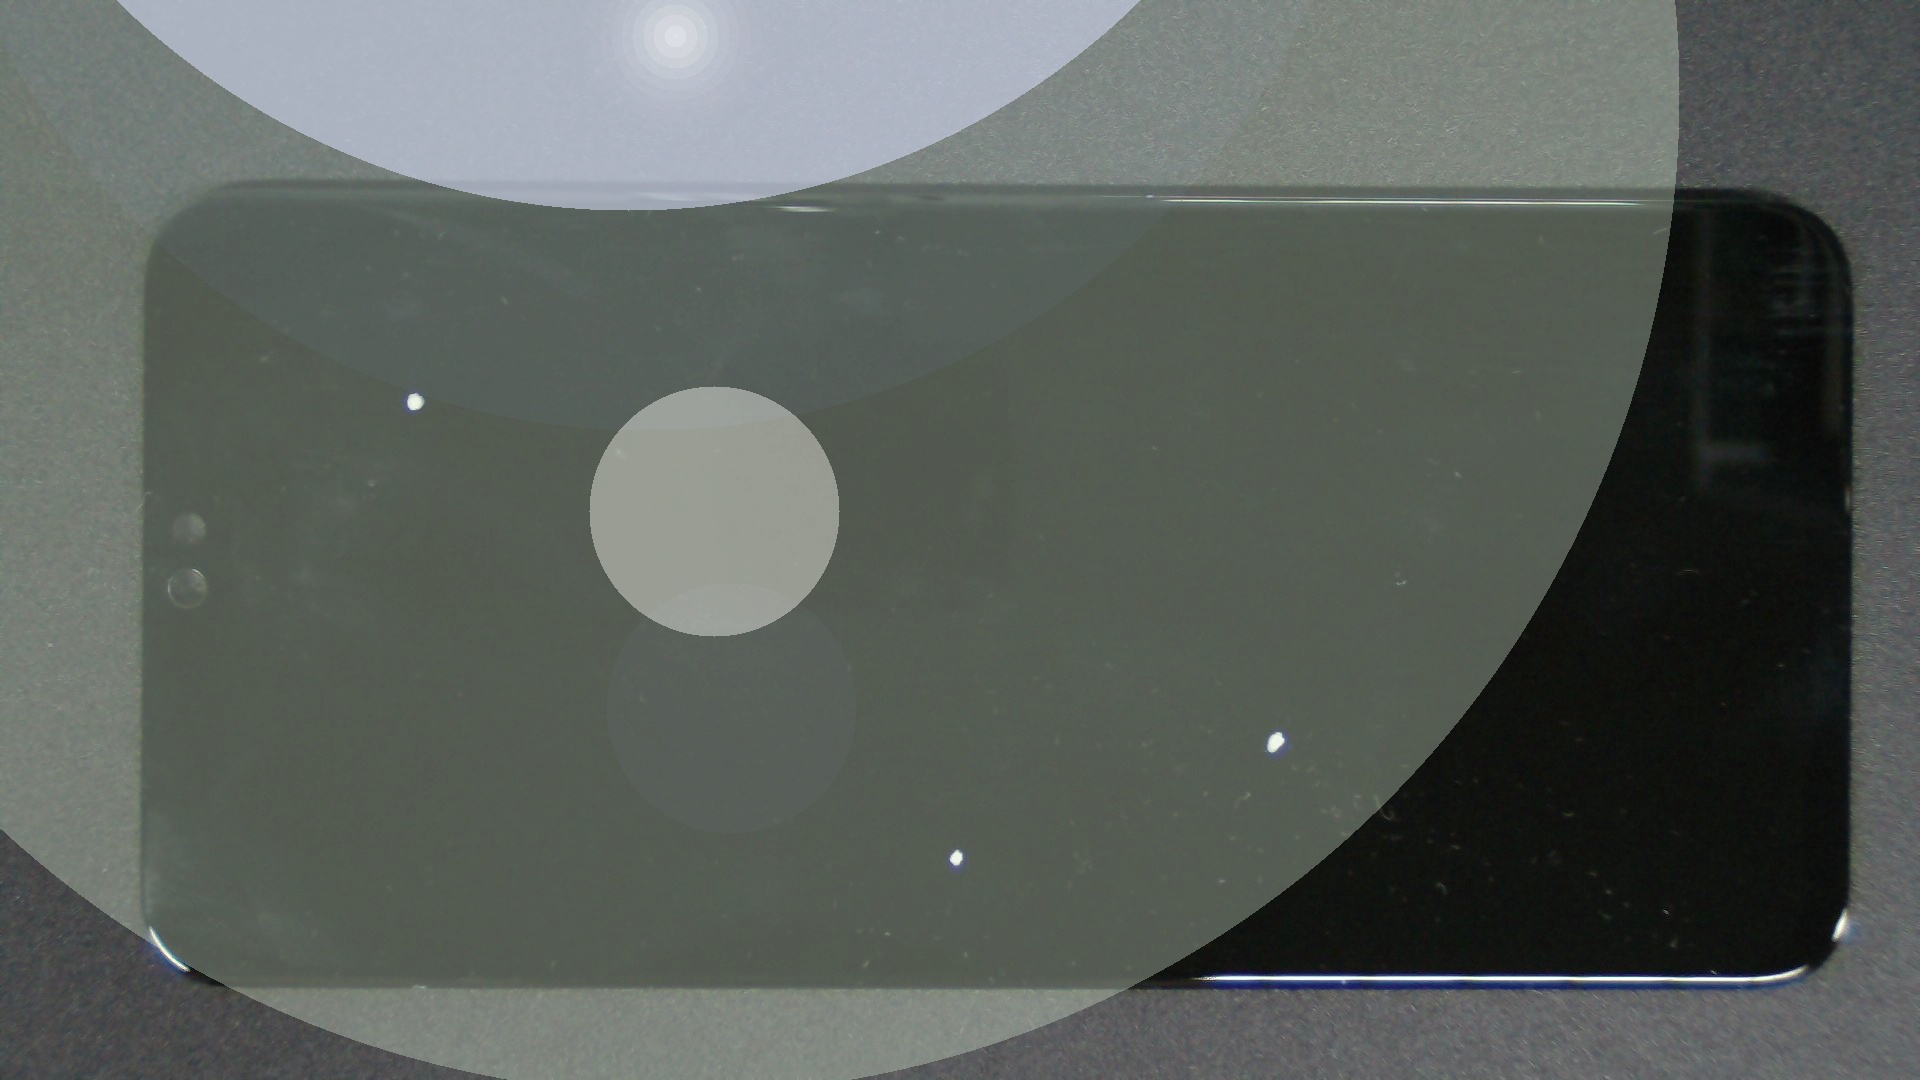oil: (638, 364, 1909, 1080), (480, 422, 1428, 1080), (207, 195, 617, 588)
